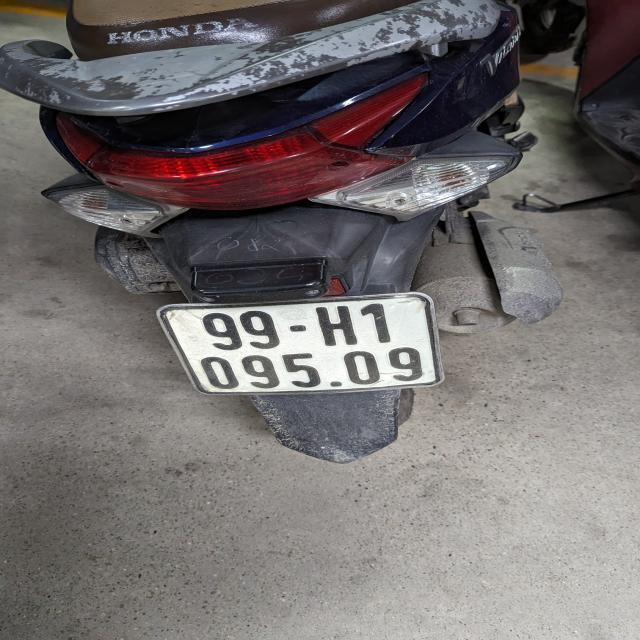license: (155, 290, 445, 395)
